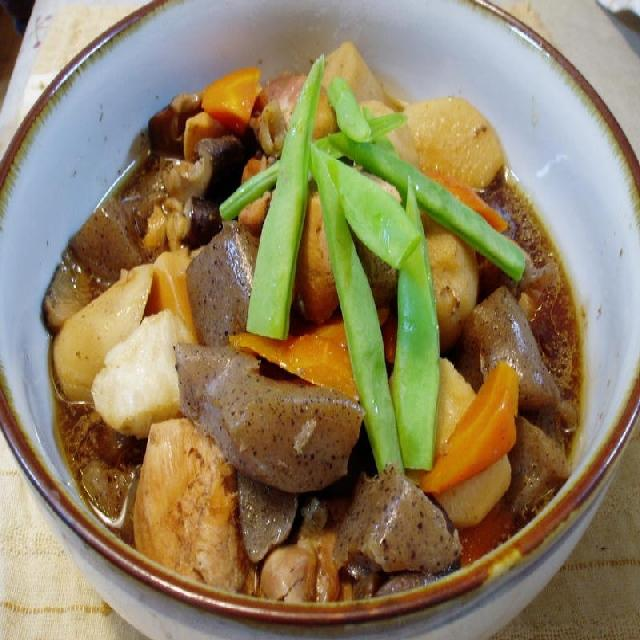鸡肉料理 含炸鸡: (0, 1, 637, 636)
